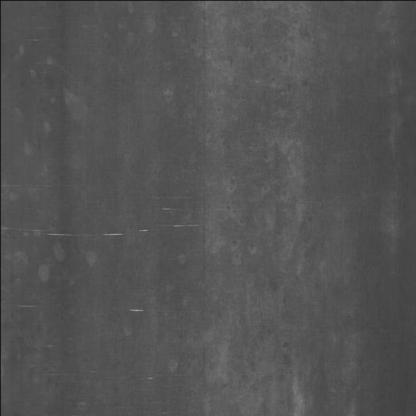crease: (17, 175, 213, 290)
